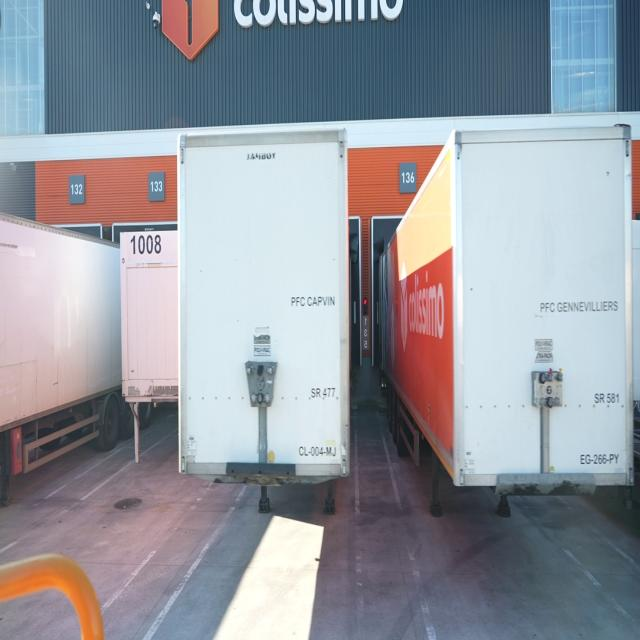Code: (128, 231, 164, 260)
